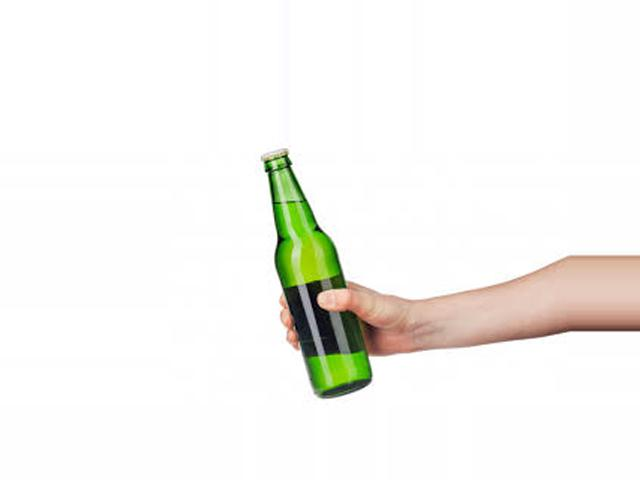beer: (261, 148, 372, 399)
